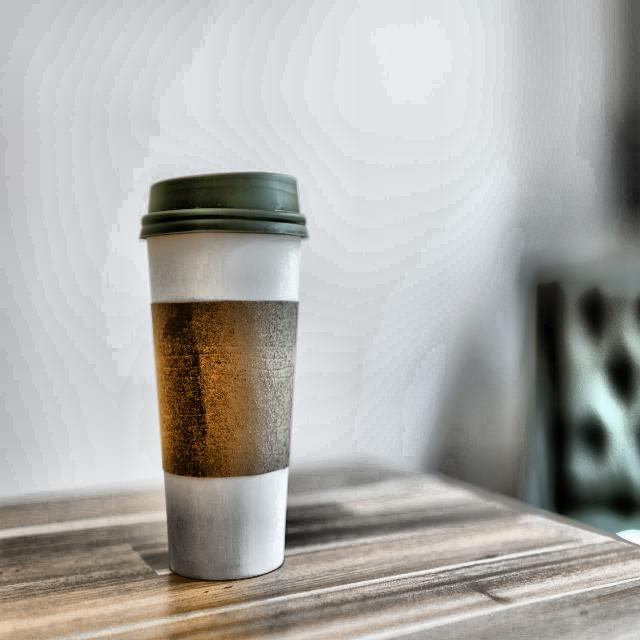Cup: (130, 214, 309, 591)
